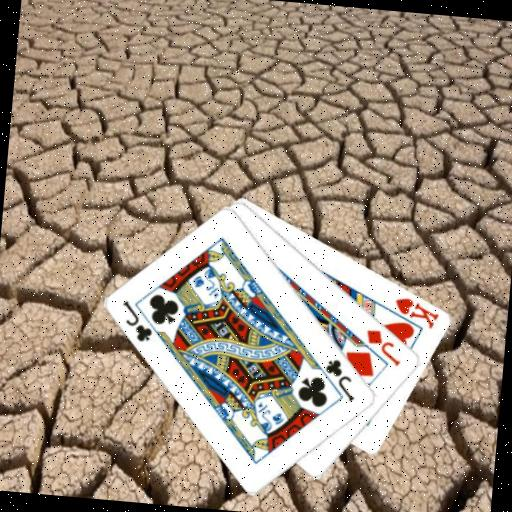JC: (117, 296, 158, 345), (320, 355, 360, 404)
JD: (361, 326, 405, 368)
KH: (391, 293, 443, 331)
